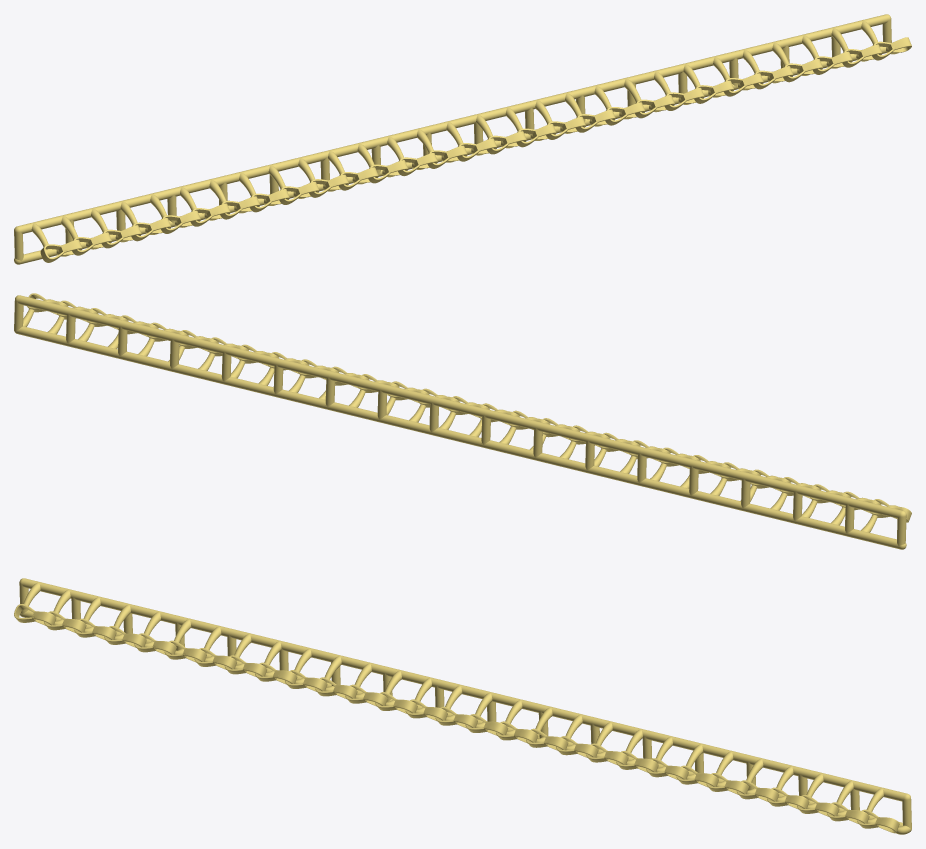
The model's file is yzn5-105.glb.
The picture shows the model from 3 angles, top to bottom: view 1: azimuth 30°, elevation 25°; view 2: azimuth 150°, elevation 25°; view 3: azimuth 330°, elevation 25°; orthographic projection.
Visible parts, largest first — view 1: Renderer Node; view 2: Renderer Node; view 3: Renderer Node.
Part boxes in pixels (<box>): Renderer Node: <box>14,14,911,264</box>; Renderer Node: <box>14,293,911,549</box>; Renderer Node: <box>14,578,911,834</box>.
Bounding box in the file's own units: 172 × 7.06 × 7.71.
